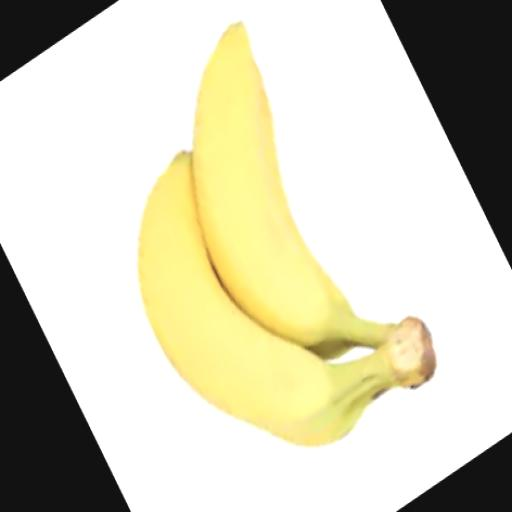banana-ripe: (77, 9, 476, 477)
